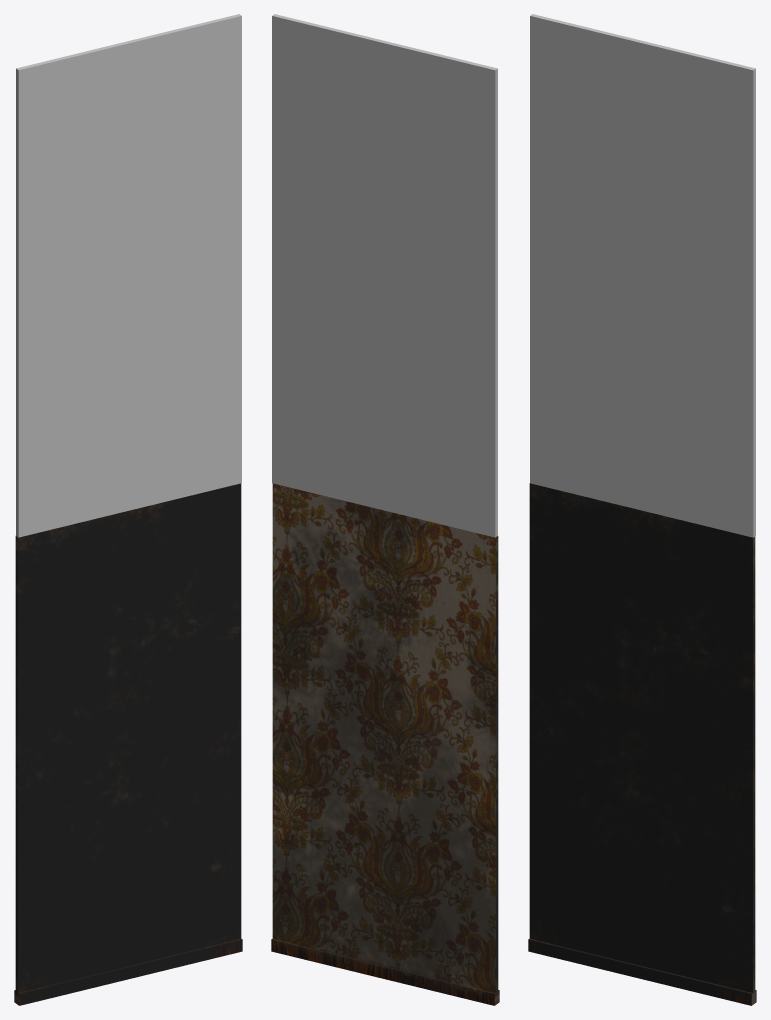
File: New_BlueWall.fbx
3 renders of one model, left to right at view 1: azimuth 30°, elevation 25°; view 2: azimuth 150°, elevation 25°; view 3: azimuth 330°, elevation 25°, orthographic.
Visible parts, largest first — view 1: sita, ue3; view 2: sita, ue3; view 3: sita, ue3.
Part boxes in pixels (x1,y1,x2,y2): sita: (14, 483, 242, 1005); ue3: (16, 14, 241, 537); sita: (271, 483, 499, 1005); ue3: (272, 14, 497, 537); sita: (528, 483, 756, 1005); ue3: (530, 14, 755, 537).
Size of the model in its own units: 501 by 2000 by 19.74.
